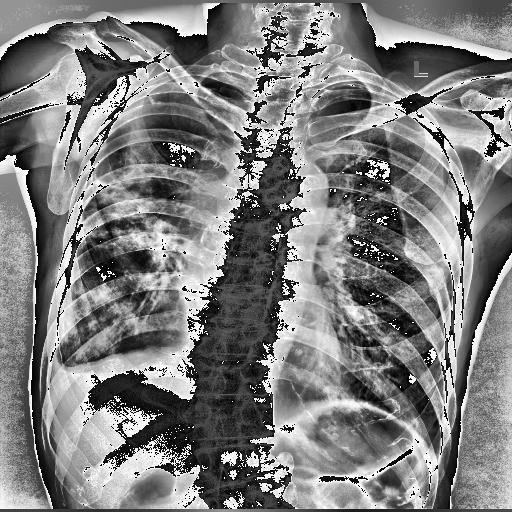0- Aortic enlargement: (261, 158, 330, 222)
10- Pleural effusion: (40, 350, 108, 392), (43, 336, 75, 404), (46, 350, 75, 390)
11- Pleural thickening: (315, 72, 404, 102), (43, 336, 75, 404), (46, 350, 75, 390), (180, 68, 234, 85), (316, 80, 384, 90)
13- Pulmonary fibrosis: (56, 150, 200, 358), (56, 140, 184, 363)
2- Calcification: (316, 80, 384, 90), (144, 94, 166, 106)
4- Consolidation: (56, 140, 184, 363)
6- Infiltration: (56, 150, 200, 358), (56, 140, 184, 363), (52, 166, 190, 362)
9- Other lesion: (224, 176, 276, 382), (426, 263, 444, 297)
